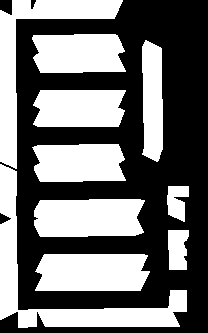parkingspot: (36, 308, 179, 326), (0, 10, 16, 168), (142, 40, 162, 161), (35, 254, 147, 274), (34, 216, 143, 236), (35, 271, 149, 290), (34, 199, 144, 218), (32, 144, 124, 164), (33, 52, 125, 72), (0, 216, 17, 319), (33, 90, 125, 109), (32, 34, 124, 53), (34, 162, 125, 181), (33, 107, 124, 126), (29, 0, 122, 18), (0, 164, 16, 220), (168, 230, 188, 269), (167, 195, 184, 221), (168, 290, 186, 311), (12, 0, 31, 18), (18, 309, 36, 327), (168, 186, 188, 196)
